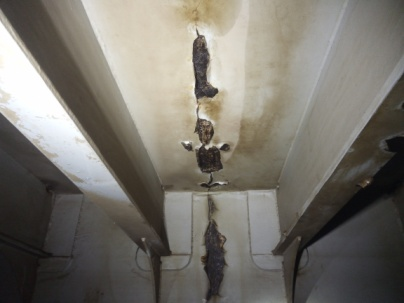corrosion: (188, 196, 237, 303), (171, 20, 232, 103), (181, 142, 236, 179), (176, 112, 222, 140)
